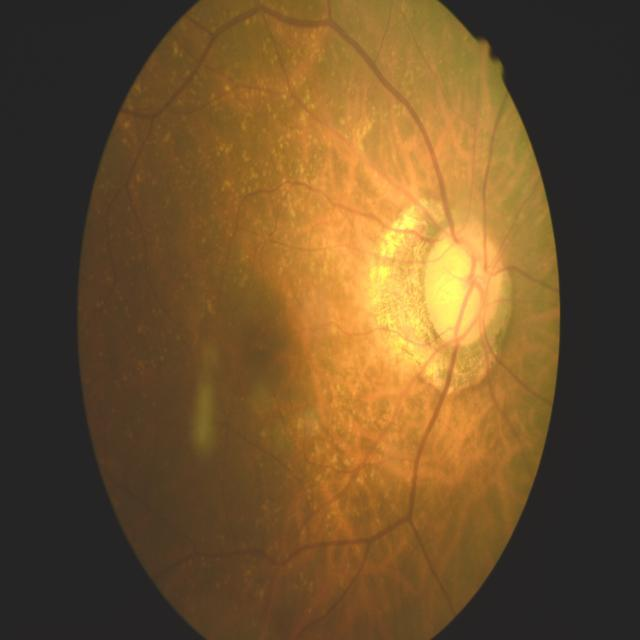cup: (445, 239, 489, 339)
disk: (422, 221, 505, 349)
